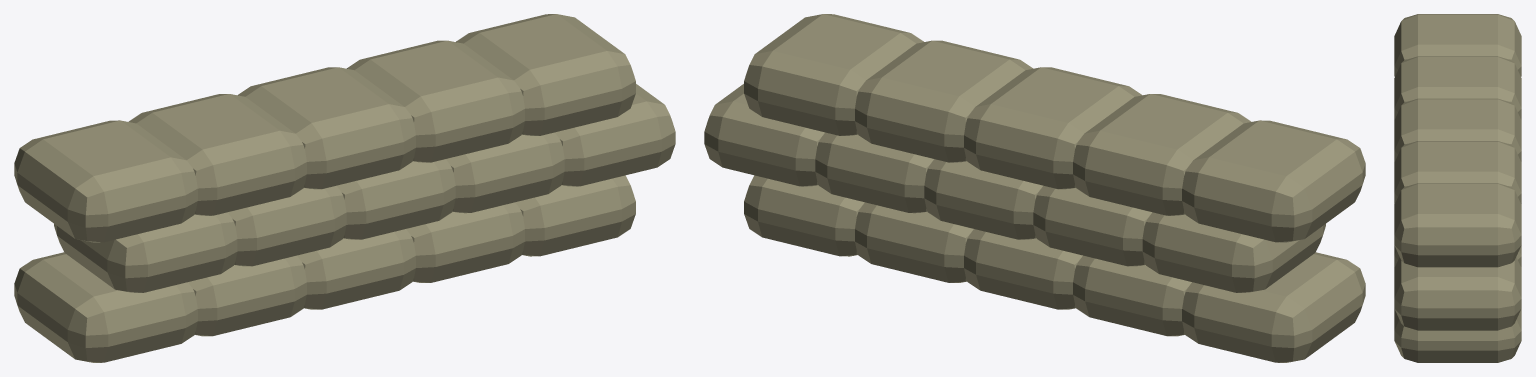
File: sandbags.glb
3 views of the same model, side by side, from view 1: azimuth 30°, elevation 25°; view 2: azimuth 150°, elevation 25°; view 3: azimuth 270°, elevation 25° (orthographic). The views are drawn at different scales.
Visible parts, largest first — view 1: sandbags.001; view 2: sandbags.001; view 3: sandbags.001.
Boxes of the visible parts, box(x1,y1,x2,y2) form: sandbags.001: box(14, 14, 675, 362); sandbags.001: box(704, 14, 1365, 362); sandbags.001: box(1394, 14, 1521, 362).
Bounding box in the file's own units: 3.05 × 0.9 × 0.7.
